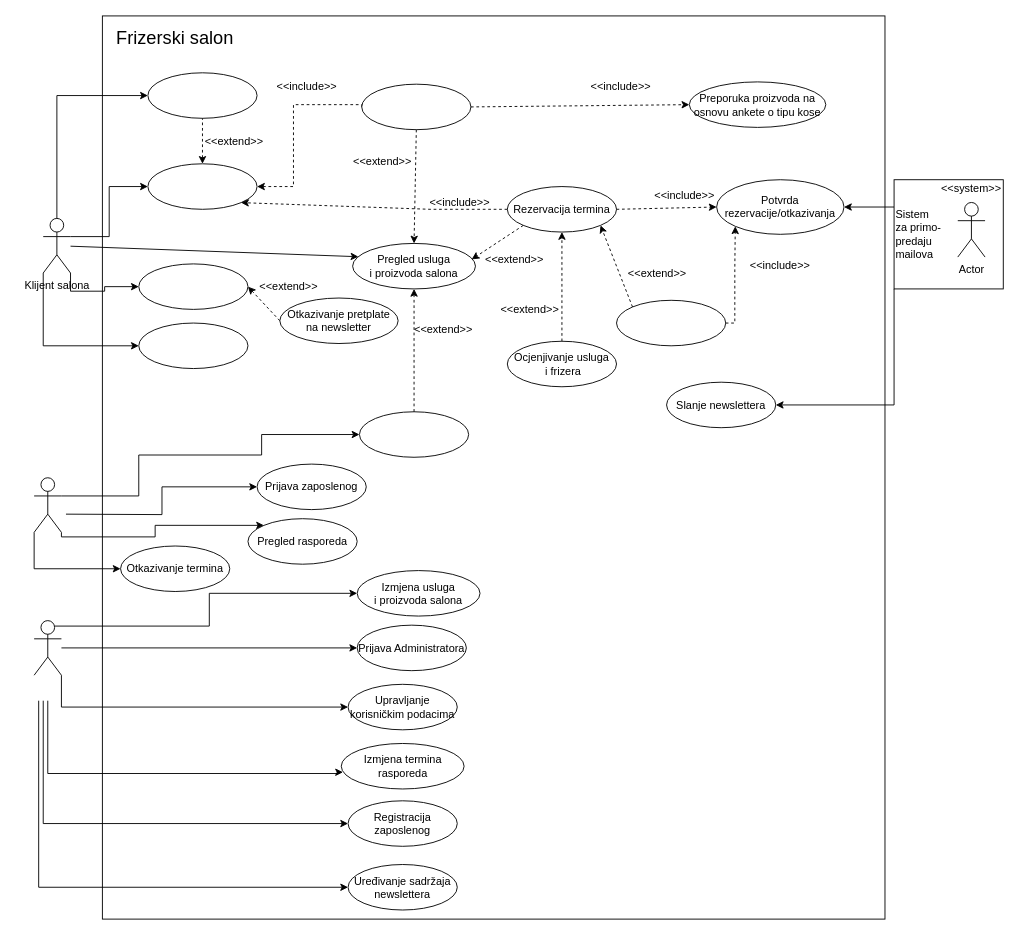
Image size: 1019x935. Some labels were removed from this diagram. Here are the shapes that lost their labels. From the top down, the centre of each, then its label:
At point 202,95: "Registracija korisnika".
At point 416,106: "Anketa o tipu kose".
At point 202,186: "Prijava korisnika".
At point 193,286: "Primanje newslettera".
At point 671,322: "Otkazivanje rezervacije".
At point 193,345: "Primanje e-mail potvrda".
At point 414,434: "Pregled ocjena usluga i frizera".
At point 47,504: "Frizer".
At point 47,647: "Administrator".
